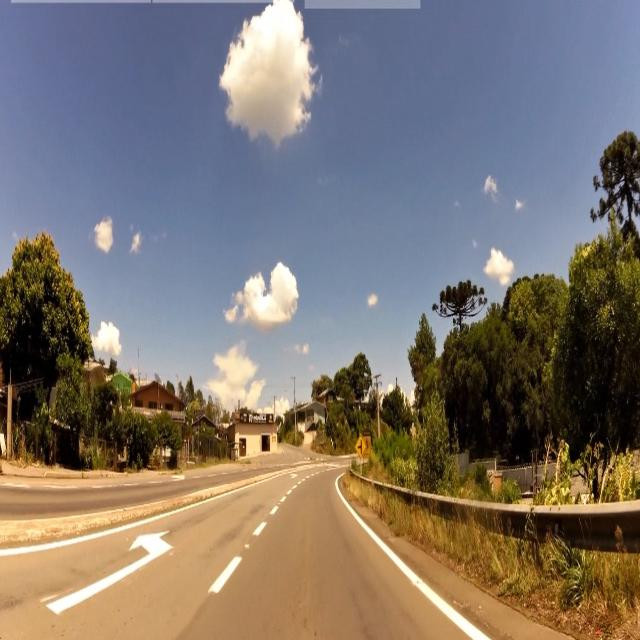A-7a: (354, 436, 365, 458)
